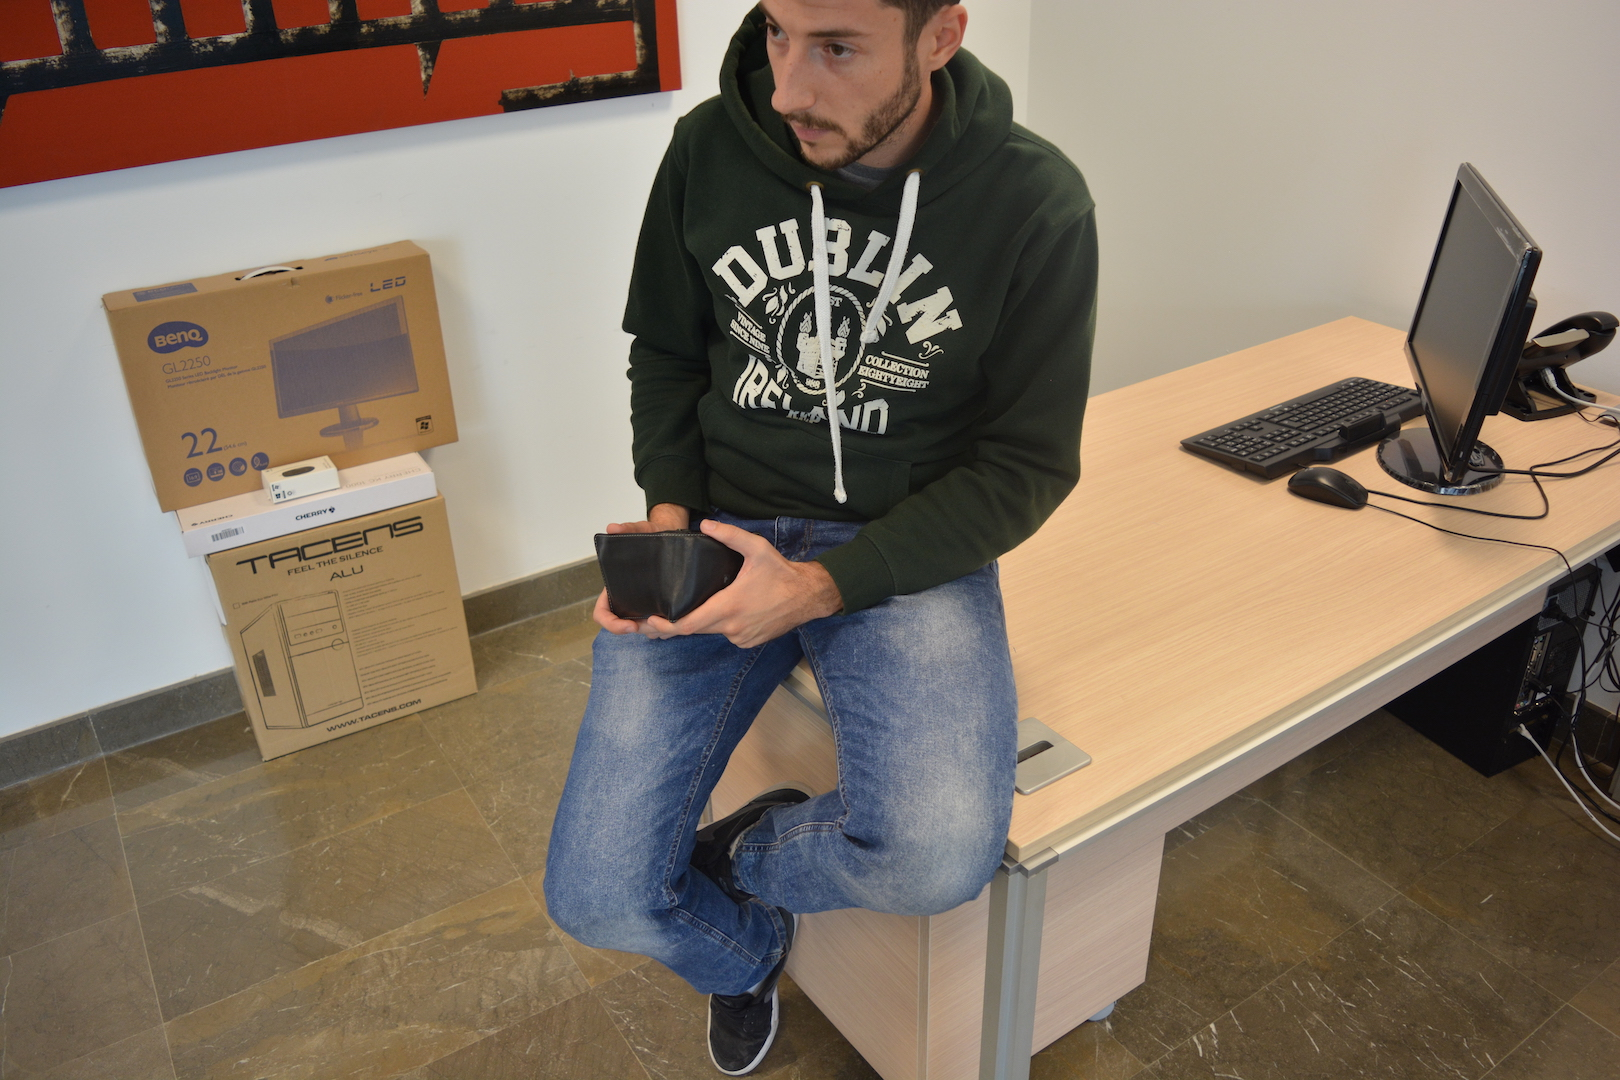monedero: (592, 524, 750, 626)
